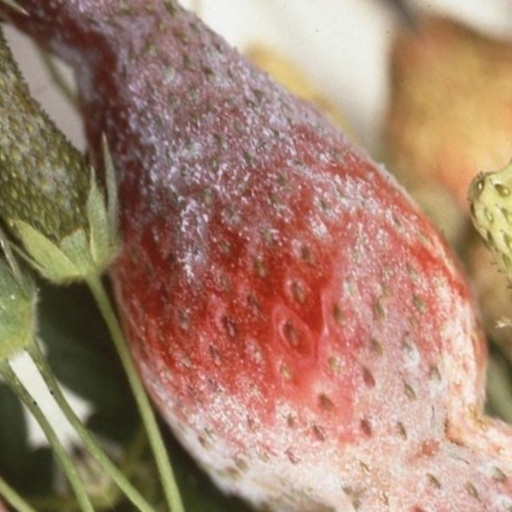Powdery Mildew Fruit: (84, 0, 422, 511), (316, 333, 453, 511)
